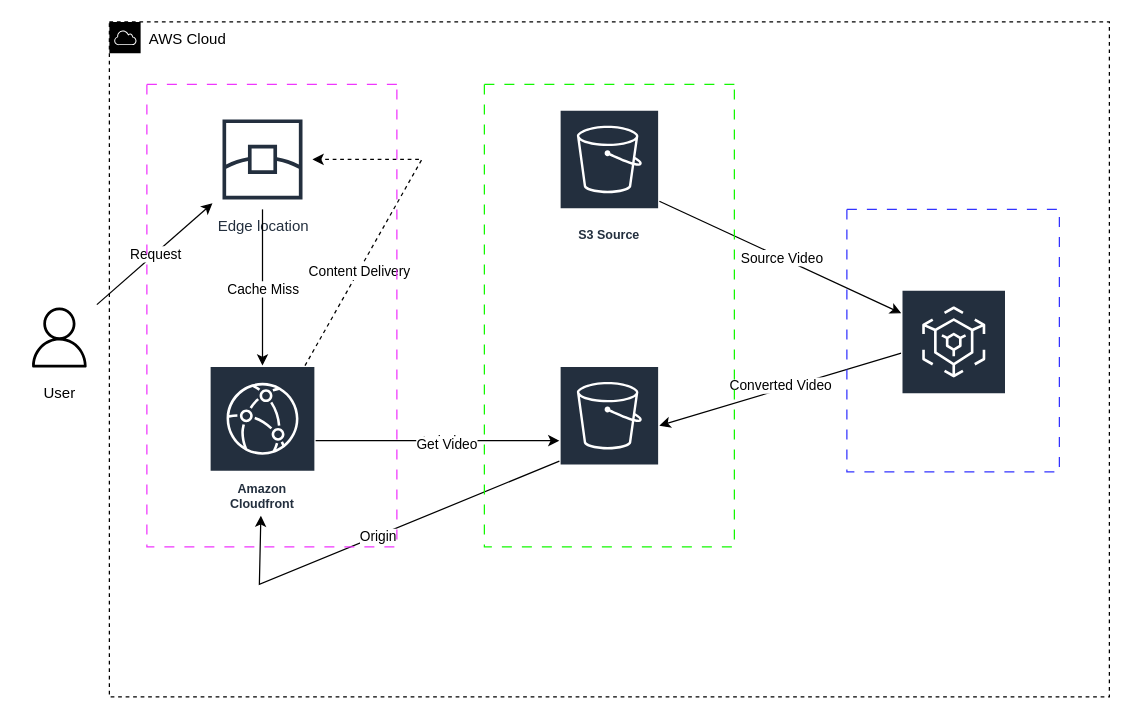
Some shapes in this 1131 by 719 pixel diagram are drawn without their labels. Here are the shapes that lost their labels. From the top down, the box of each, then its label:
(900, 288, 1006, 386): AWS MediaConvert
(558, 364, 659, 516): Amazon S3 Output
